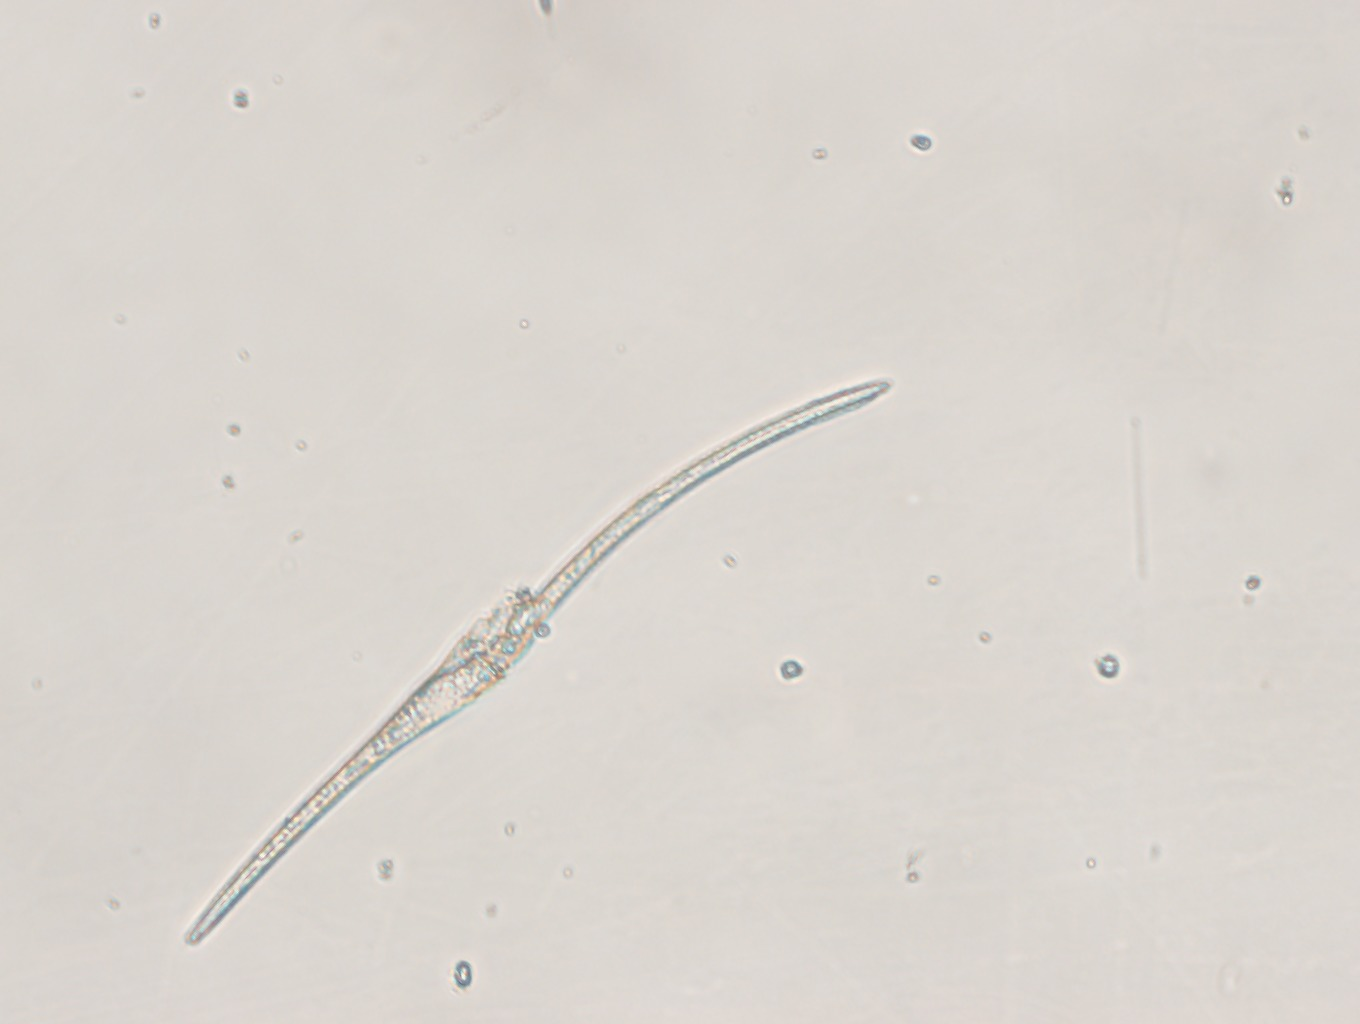ceratium fusus: (181, 372, 905, 965)
